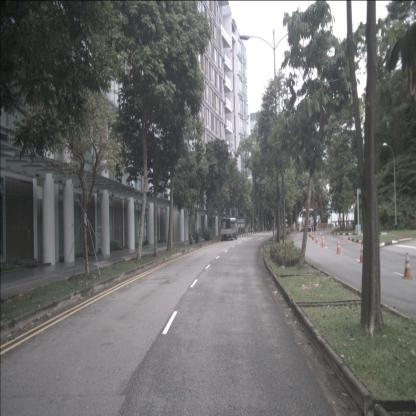movable_object-barrier: (316, 224, 319, 231)
movable_object-trafficcone: (402, 252, 413, 280), (359, 244, 365, 264), (336, 239, 341, 254), (321, 235, 325, 247), (311, 232, 315, 241), (315, 233, 318, 244), (310, 231, 313, 238)
vehicle-truck: (302, 202, 317, 232), (220, 218, 238, 241)
